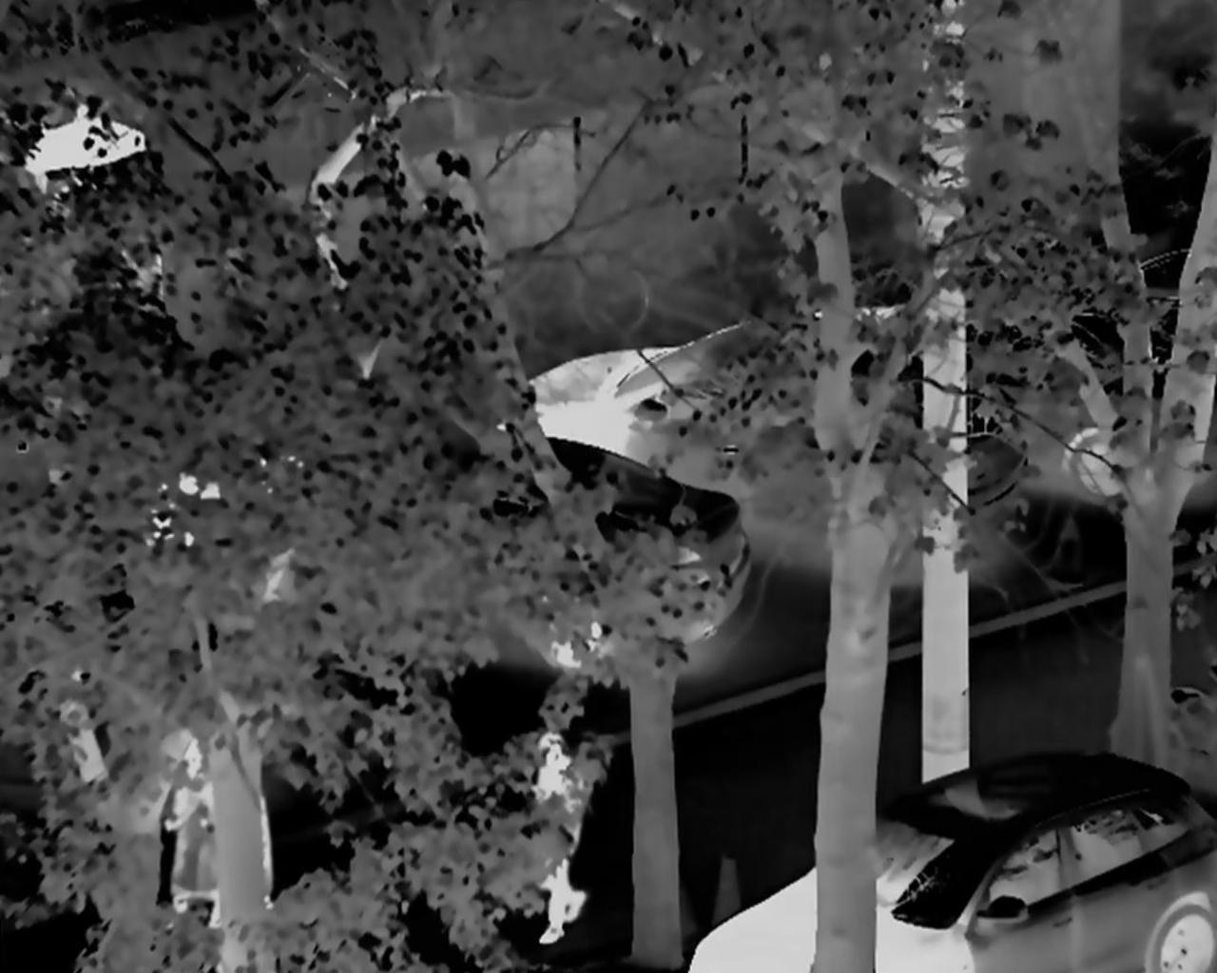person: (515, 729, 597, 957), (159, 732, 219, 935)
